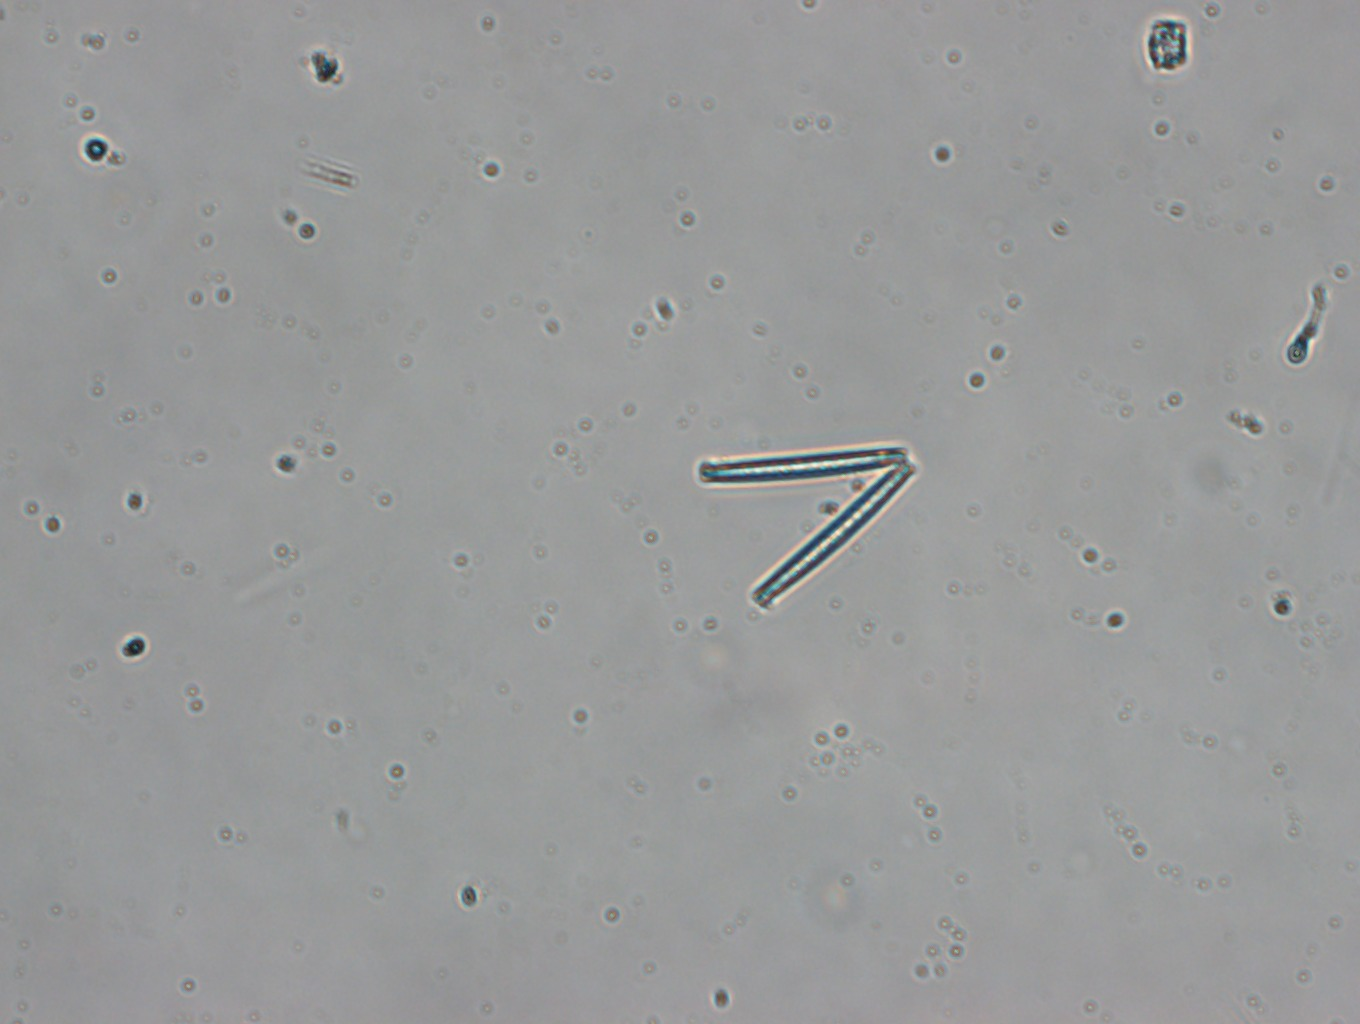thalassionema nitzschioides: (695, 440, 919, 609)
